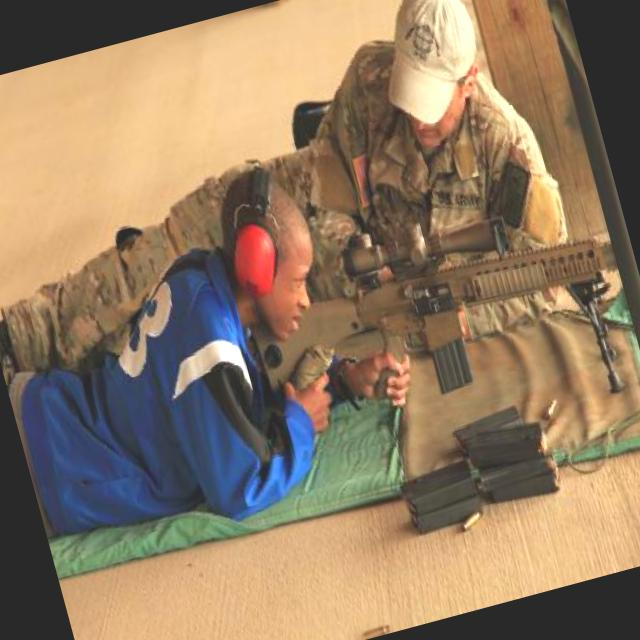Person: (0, 0, 594, 457), (0, 133, 434, 563)
